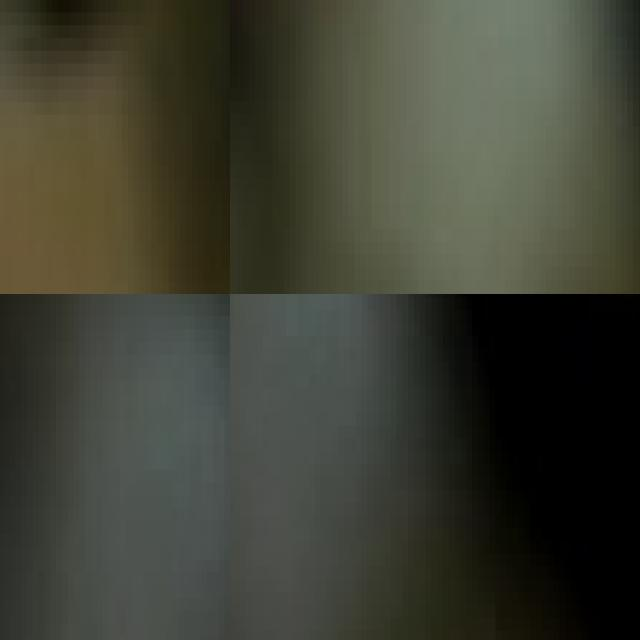fish: (0, 0, 230, 294), (0, 294, 230, 534)
